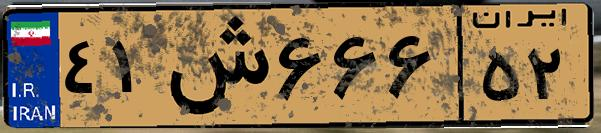1: (110, 28, 158, 98)
2: (525, 38, 570, 115)
4: (57, 26, 110, 100)
5: (475, 38, 525, 113)
6: (270, 28, 330, 110), (385, 28, 445, 110), (330, 28, 385, 110)
ش: (158, 12, 270, 120)
